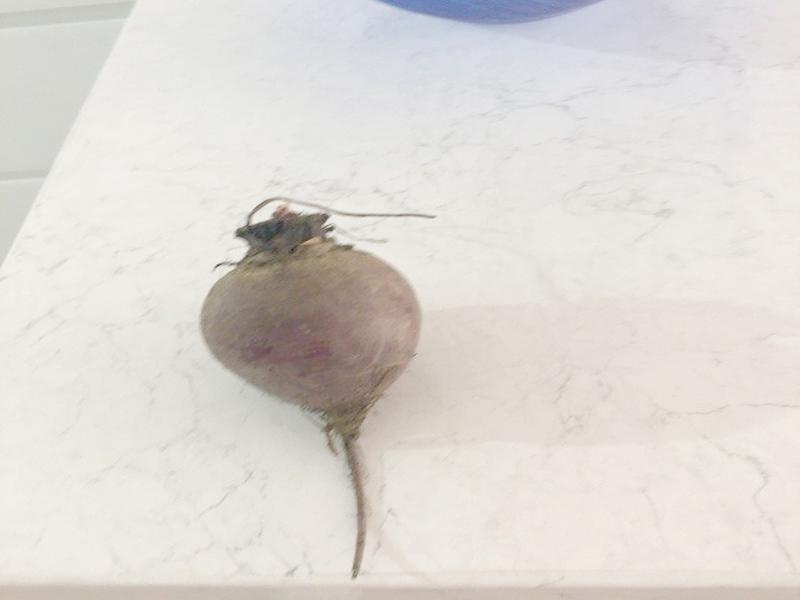Beet: (201, 195, 438, 578)
